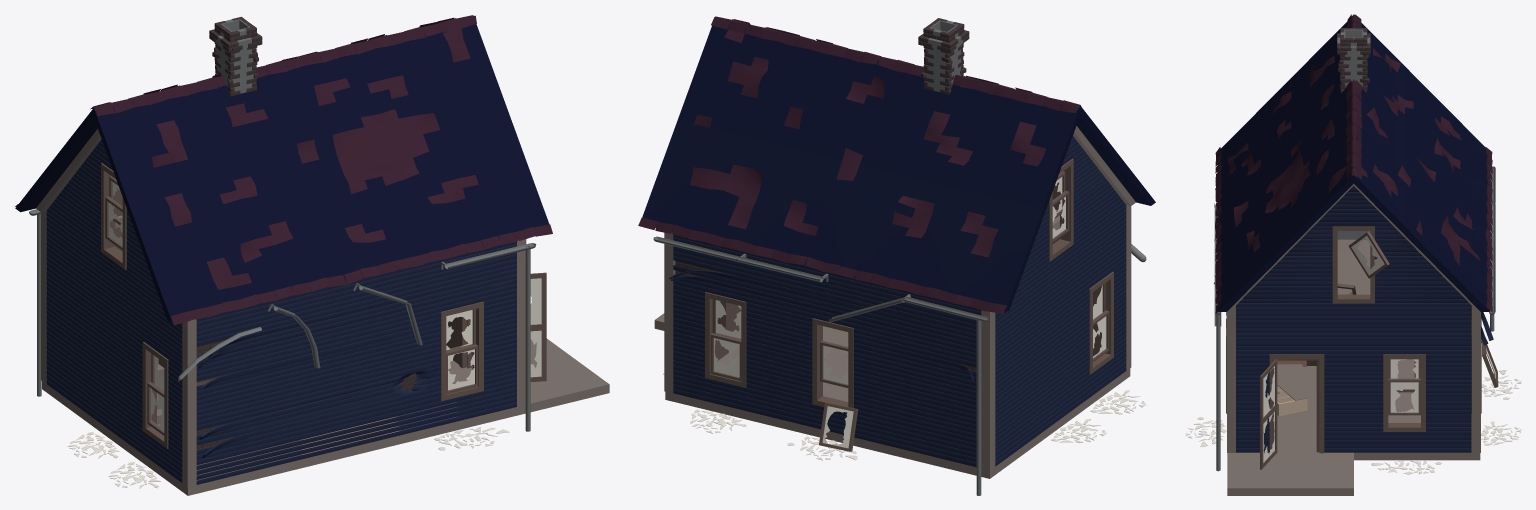
The model's file is House#9.fbx.
3 views of the same model, side by side, from view 1: azimuth 30°, elevation 25°; view 2: azimuth 150°, elevation 25°; view 3: azimuth 270°, elevation 25° (orthographic). The views are drawn at different scales.
Parts seen in each view (by area): view 1: HouseMain, Roof, Misc, Drain, ChimneyBricks, Bricks; view 2: HouseMain, Roof, Misc, Drain, ChimneyBricks; view 3: HouseMain, Misc, Roof, Drain, ChimneyBricks, Closet.
Boxes of the visible parts, <box> form: HouseMain: <box>15,19,609,495</box>; Roof: <box>15,15,552,325</box>; Misc: <box>67,163,546,488</box>; Drain: <box>29,209,536,431</box>; ChimneyBricks: <box>209,16,262,96</box>; Bricks: <box>196,336,420,450</box>; HouseMain: <box>642,20,1155,478</box>; Roof: <box>638,16,1081,313</box>; Misc: <box>663,158,1146,460</box>; Drain: <box>653,236,1146,495</box>; ChimneyBricks: <box>918,18,969,94</box>; HouseMain: <box>1214,21,1493,495</box>; Misc: <box>1185,226,1521,474</box>; Roof: <box>1215,14,1492,313</box>; Drain: <box>1214,166,1495,471</box>; ChimneyBricks: <box>1337,28,1370,92</box>; Closet: <box>1277,381,1307,416</box>.
Size of the model in its own units: 1103 by 907 by 798.
